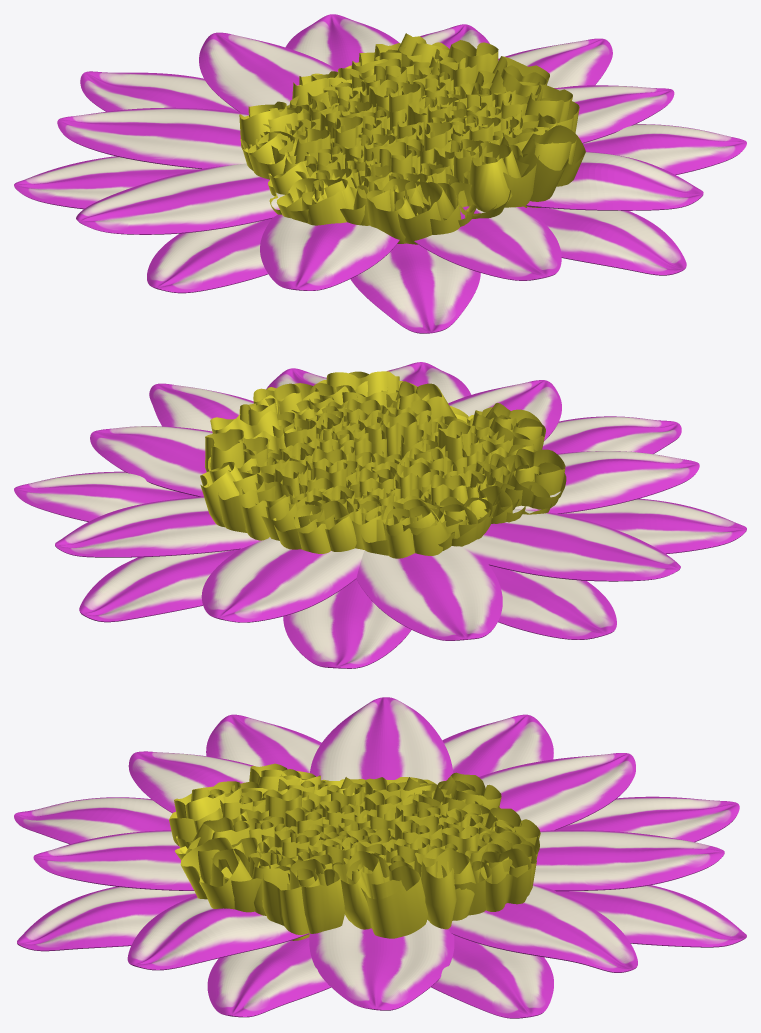
The model's file is Flower 003.glb.
3 views of the same model, one above another, from view 1: azimuth 30°, elevation 25°; view 2: azimuth 150°, elevation 25°; view 3: azimuth 270°, elevation 25° (orthographic). The views are drawn at different scales.
Visible parts, largest first — view 1: Plane.003, BézierCurve.150, Plane.009; view 2: Plane.003, BézierCurve.150, Plane.009; view 3: Plane.003, BézierCurve.150, Plane.009.
Part boxes in pixels (bbox=[...]): Plane.003: bbox=[57, 24, 703, 290]; BézierCurve.150: bbox=[239, 33, 585, 244]; Plane.009: bbox=[14, 14, 746, 333]; Plane.003: bbox=[55, 368, 699, 640]; BézierCurve.150: bbox=[200, 371, 566, 558]; Plane.009: bbox=[14, 362, 746, 668]; Plane.003: bbox=[33, 697, 724, 1010]; BézierCurve.150: bbox=[169, 763, 540, 940]; Plane.009: bbox=[14, 714, 746, 1018].
Bounding box in the file's own units: 13.72 × 3.22 × 13.91.
2 materials, 1 textured.
